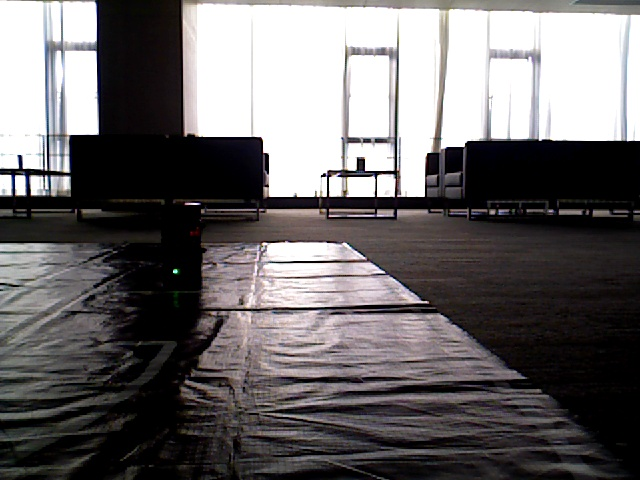green: (162, 208, 194, 287)
